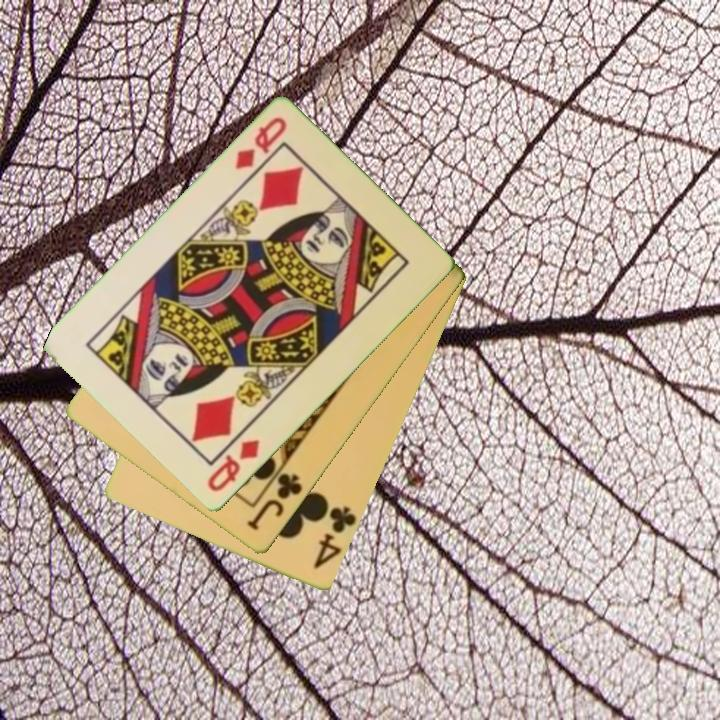4c: (310, 503, 359, 573)
Jc: (243, 470, 306, 535)
Qd: (203, 436, 263, 496), (231, 114, 290, 174)
